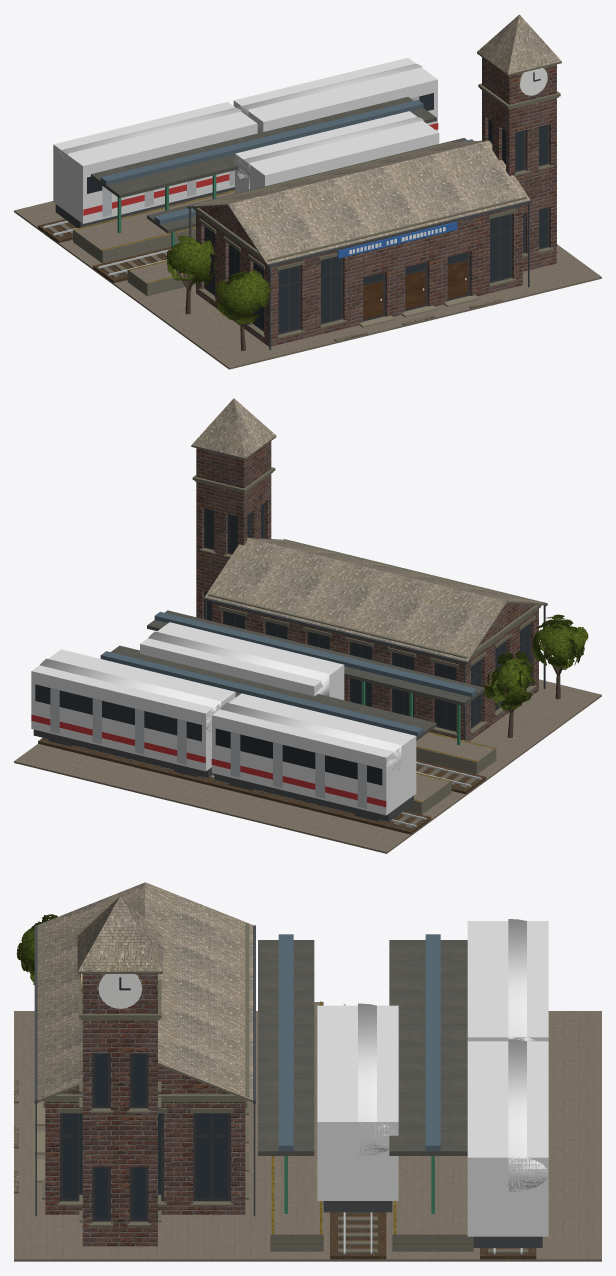
The model's file is train_station.glb.
The picture shows the model from 3 angles, top to bottom: view 1: azimuth 30°, elevation 25°; view 2: azimuth 150°, elevation 25°; view 3: azimuth 270°, elevation 25°; orthographic projection. The views are drawn at different scales.
Parts seen in each view (by area): view 1: train_station_body, train_station_foliage; view 2: train_station_body, train_station_foliage; view 3: train_station_body, train_station_foliage.
Boxes of the visible parts, box(x1,y1,x2,y2) form: train_station_body: box(14, 14, 601, 369); train_station_foliage: box(166, 235, 271, 324); train_station_body: box(14, 398, 601, 853); train_station_foliage: box(483, 614, 588, 710); train_station_body: box(14, 882, 601, 1261); train_station_foliage: box(16, 914, 57, 984).
Bounding box in the file's own units: 0.945 × 0.594 × 0.94.
30 materials, 15 textured.
